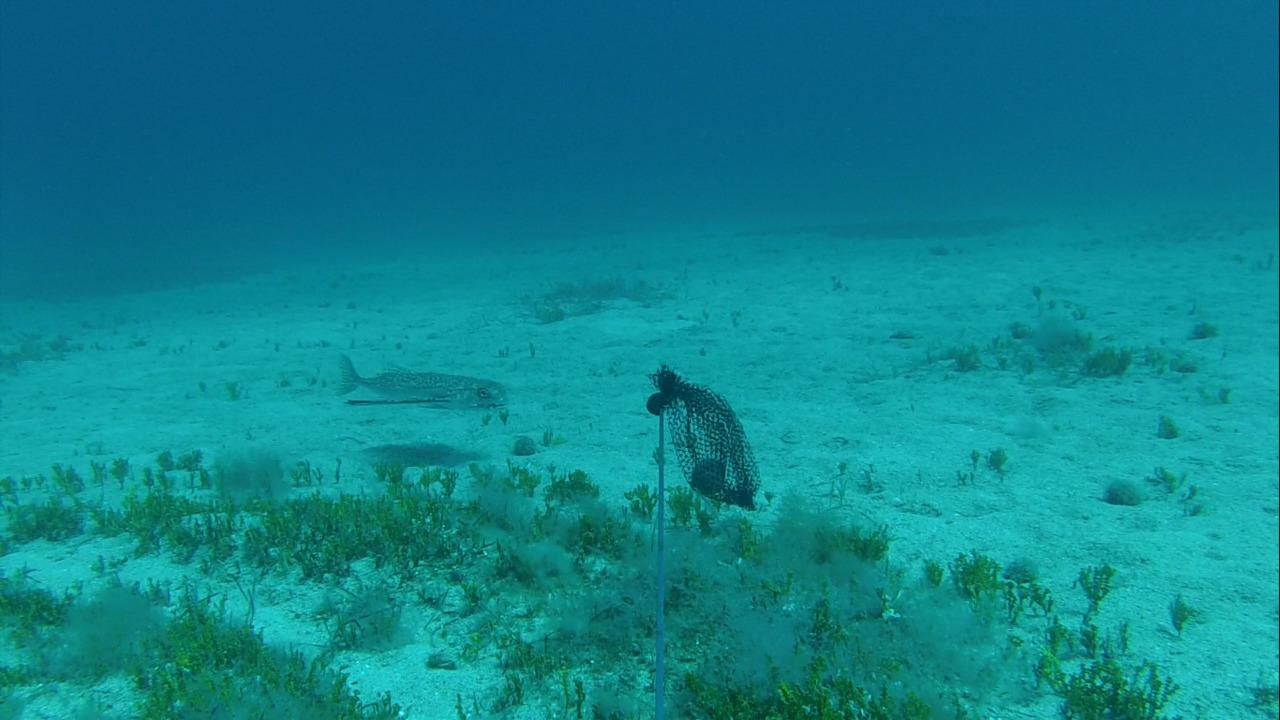dactylopterus: (326, 348, 513, 419)
